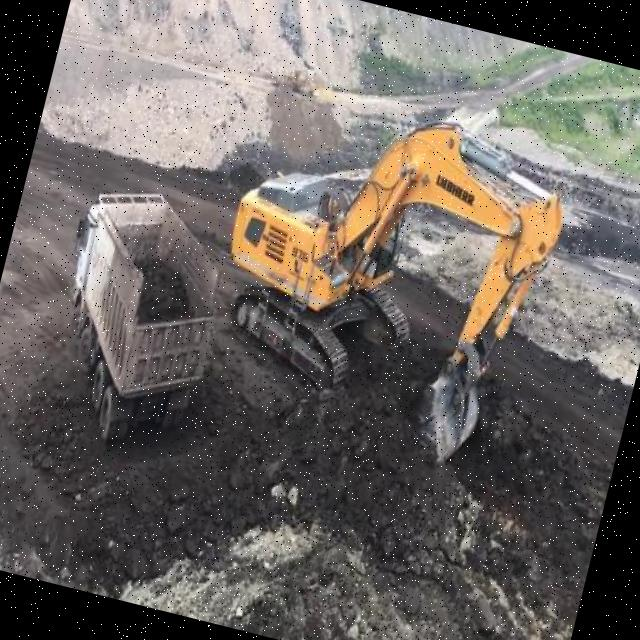Dump Truck: (28, 170, 245, 458)
Excavator: (186, 82, 580, 486)
